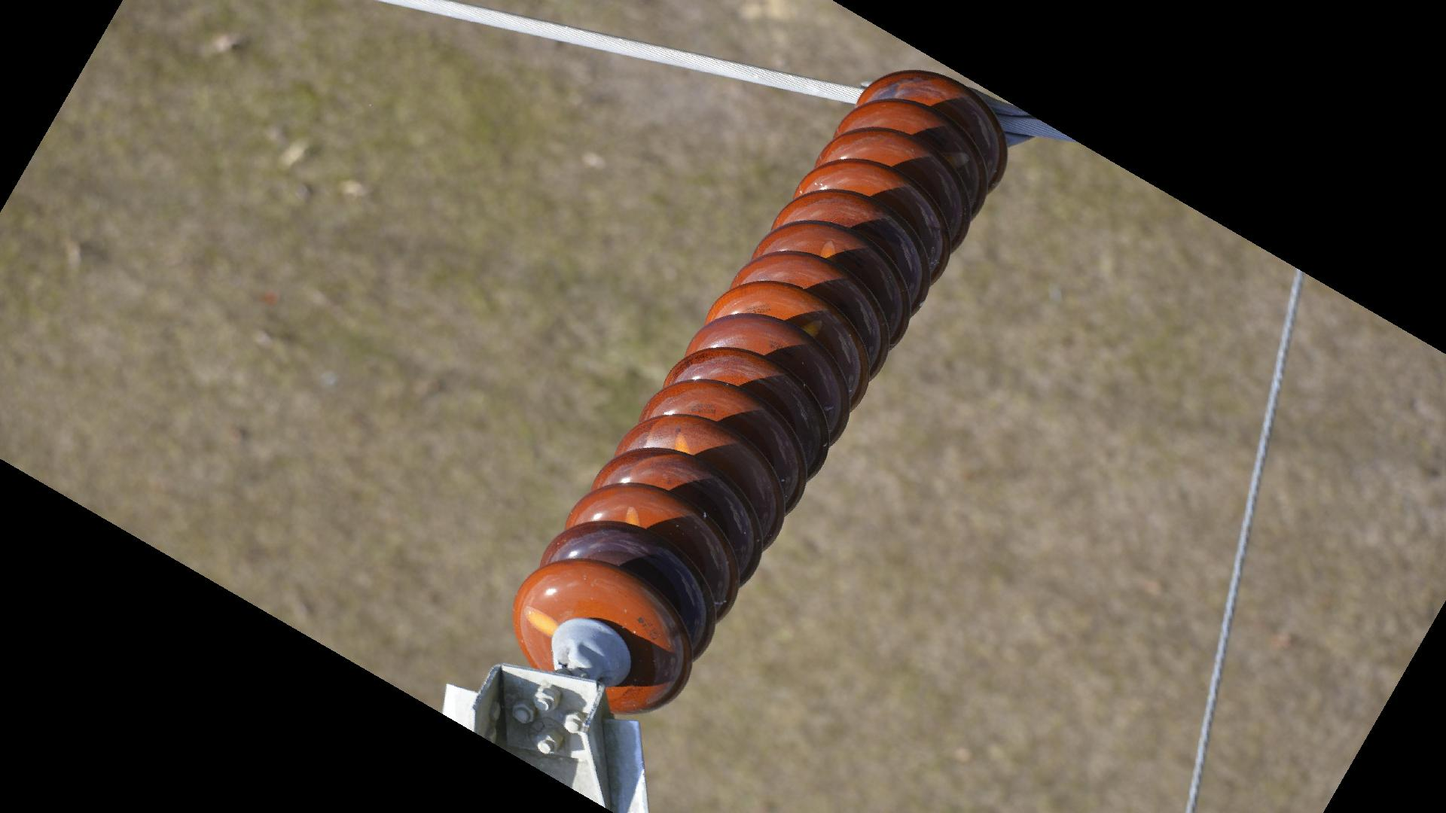insulator: (508, 63, 1014, 720)
insulator_flashover: (520, 603, 560, 638), (671, 429, 693, 457), (621, 505, 645, 529)
